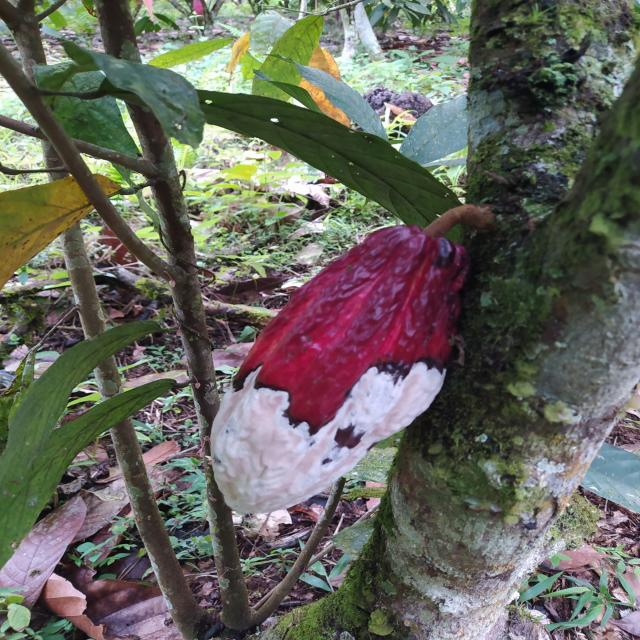Monilia: (207, 222, 470, 517)
